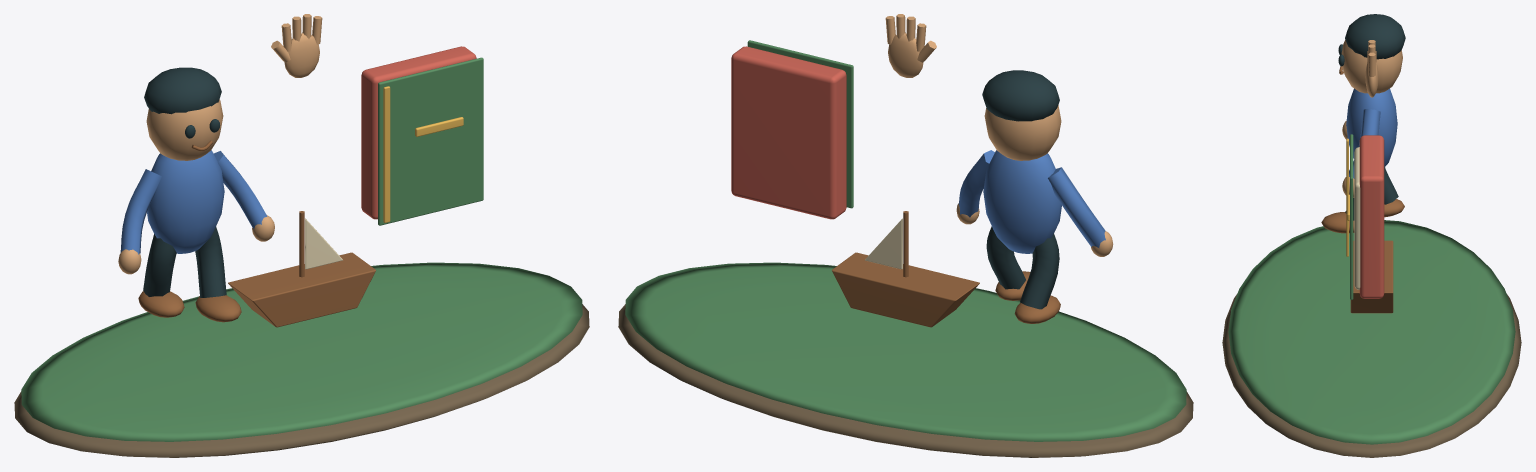
File: complete-first-make-old-tale.glb
The picture shows the model from 3 angles, left to right: view 1: azimuth 30°, elevation 25°; view 2: azimuth 150°, elevation 25°; view 3: azimuth 270°, elevation 25°; orthographic projection. The views are drawn at different scales.
Visible parts, largest first — view 1: complete-first-make-old-tale_surface_01, complete-first-make-old-tale_surface_00, complete-first-make-old-tale_surface_05, complete-first-make-old-tale_surface_04, complete-first-make-old-tale_surface_03, complete-first-make-old-tale_surface_02, complete-first-make-old-tale_surface_06, complete-first-make-old-tale_surface_08, complete-first-make-old-tale_surface_07; view 2: complete-first-make-old-tale_surface_01, complete-first-make-old-tale_surface_06, complete-first-make-old-tale_surface_00, complete-first-make-old-tale_surface_05, complete-first-make-old-tale_surface_04, complete-first-make-old-tale_surface_03, complete-first-make-old-tale_surface_02, complete-first-make-old-tale_surface_07; view 3: complete-first-make-old-tale_surface_01, complete-first-make-old-tale_surface_00, complete-first-make-old-tale_surface_06, complete-first-make-old-tale_surface_05, complete-first-make-old-tale_surface_03, complete-first-make-old-tale_surface_02, complete-first-make-old-tale_surface_04, complete-first-make-old-tale_surface_07, complete-first-make-old-tale_surface_08.
Part boxes in pixels (bbox=[...]): complete-first-make-old-tale_surface_01: bbox=[21, 57, 582, 441]; complete-first-make-old-tale_surface_00: bbox=[14, 304, 589, 457]; complete-first-make-old-tale_surface_05: bbox=[120, 150, 267, 254]; complete-first-make-old-tale_surface_04: bbox=[138, 140, 375, 327]; complete-first-make-old-tale_surface_03: bbox=[143, 67, 226, 297]; complete-first-make-old-tale_surface_02: bbox=[118, 14, 322, 274]; complete-first-make-old-tale_surface_06: bbox=[361, 46, 476, 219]; complete-first-make-old-tale_surface_08: bbox=[383, 86, 463, 222]; complete-first-make-old-tale_surface_07: bbox=[305, 218, 342, 269]; complete-first-make-old-tale_surface_01: bbox=[625, 40, 1186, 441]; complete-first-make-old-tale_surface_06: bbox=[731, 46, 846, 219]; complete-first-make-old-tale_surface_00: bbox=[618, 304, 1193, 457]; complete-first-make-old-tale_surface_05: bbox=[958, 150, 1105, 253]; complete-first-make-old-tale_surface_04: bbox=[832, 211, 1060, 327]; complete-first-make-old-tale_surface_03: bbox=[982, 70, 1059, 309]; complete-first-make-old-tale_surface_02: bbox=[885, 14, 1113, 256]; complete-first-make-old-tale_surface_07: bbox=[865, 218, 902, 269]; complete-first-make-old-tale_surface_01: bbox=[1228, 134, 1515, 444]; complete-first-make-old-tale_surface_00: bbox=[1222, 294, 1521, 457]; complete-first-make-old-tale_surface_06: bbox=[1359, 135, 1384, 298]; complete-first-make-old-tale_surface_05: bbox=[1346, 88, 1397, 178]; complete-first-make-old-tale_surface_03: bbox=[1338, 14, 1405, 220]; complete-first-make-old-tale_surface_02: bbox=[1341, 40, 1402, 197]; complete-first-make-old-tale_surface_04: bbox=[1321, 66, 1404, 313]; complete-first-make-old-tale_surface_07: bbox=[1354, 147, 1360, 289]; complete-first-make-old-tale_surface_08: bbox=[1346, 138, 1349, 256].
Bounding box in the file's own units: 4.56 × 2.89 × 2.5.
